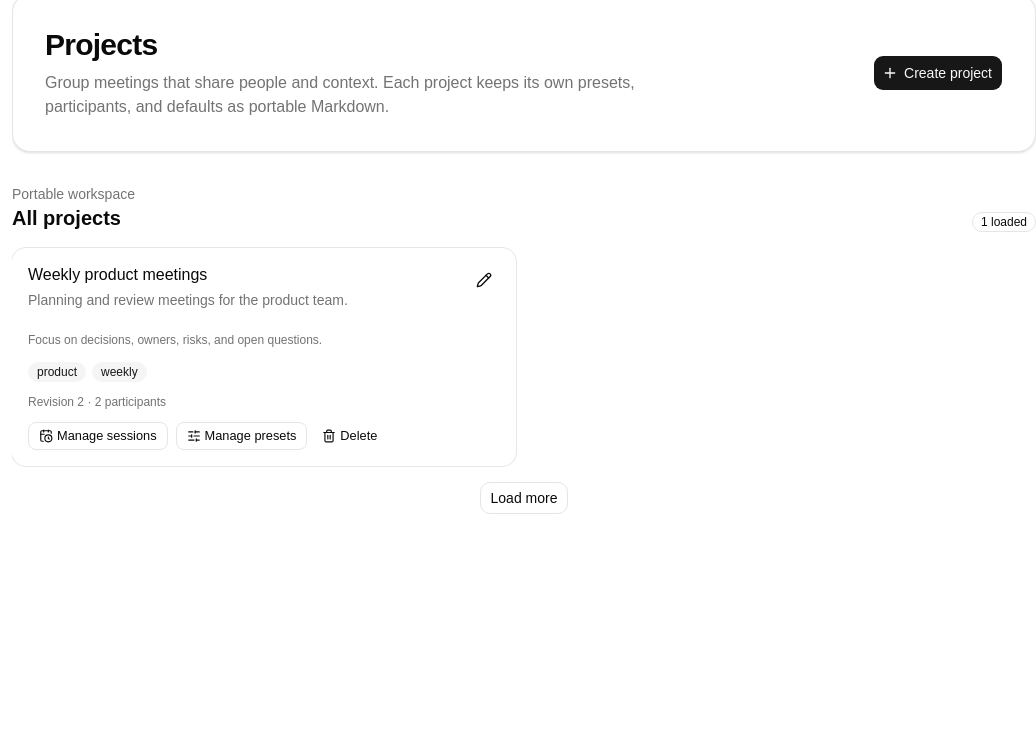
Scenario: ProjectsPage project management › keeps a session on the preset it froze when the library moved on
Click the button "Manage sessions" at x=98, y=436, box [28,422,168,450]
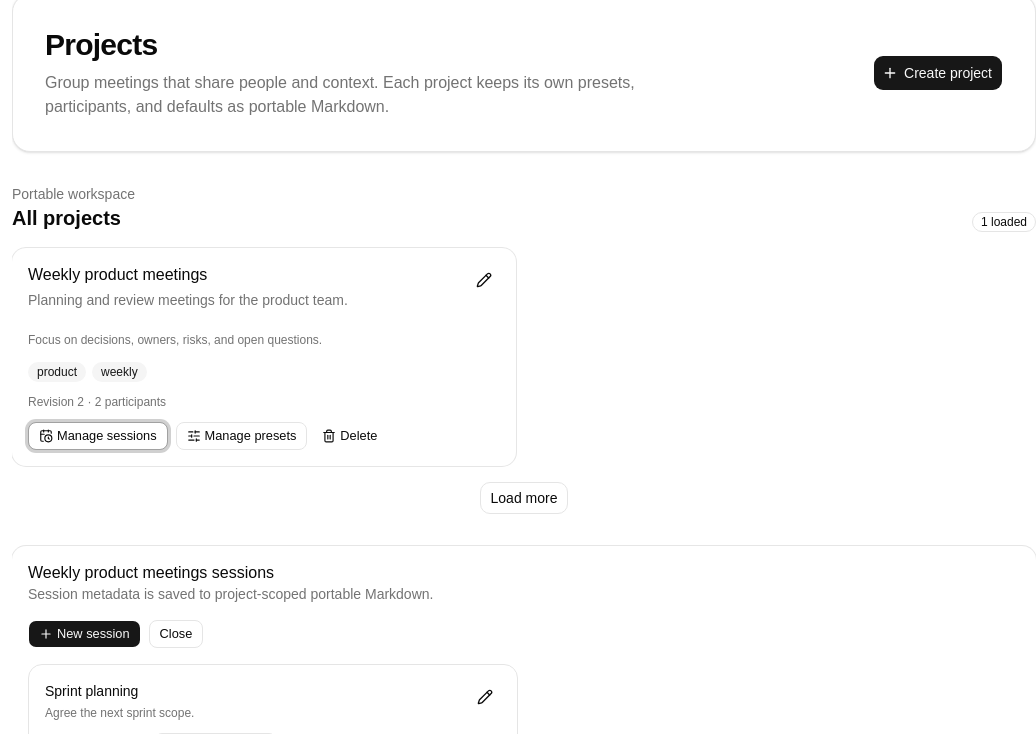
Click the button named "Edit Sprint planning" at x=485, y=697, box [469,681,501,713]
(page scrolled)
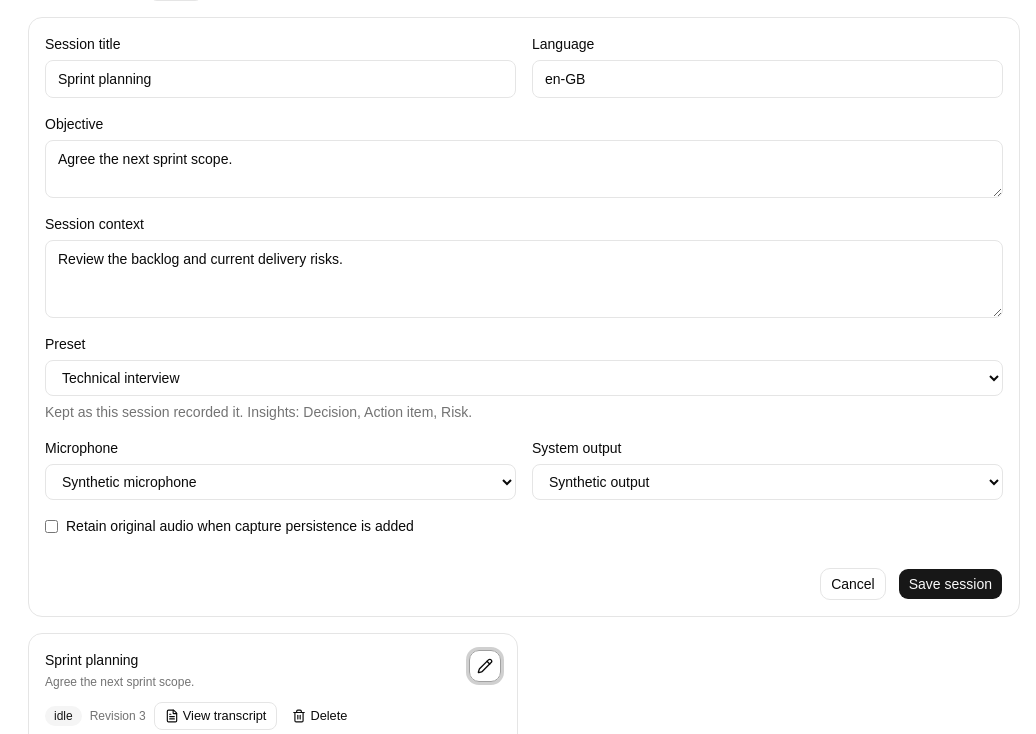
Check: the dropdown labelled "Preset" shows "Technical interview", box [45,360,1003,396]
